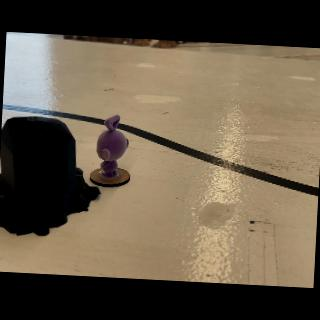teletubby: (96, 115, 129, 177)
